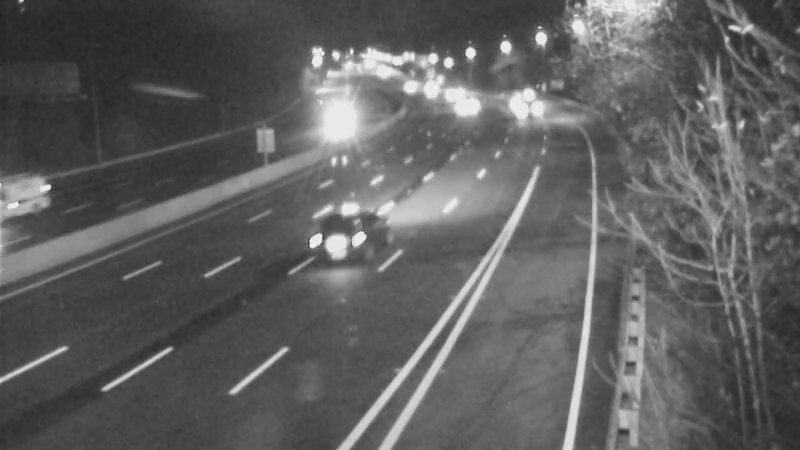vehicle: (301, 203, 381, 283), (1, 159, 72, 239), (405, 65, 455, 115), (376, 61, 426, 111), (425, 72, 475, 122), (501, 82, 551, 132), (449, 82, 499, 132), (314, 97, 364, 147)
